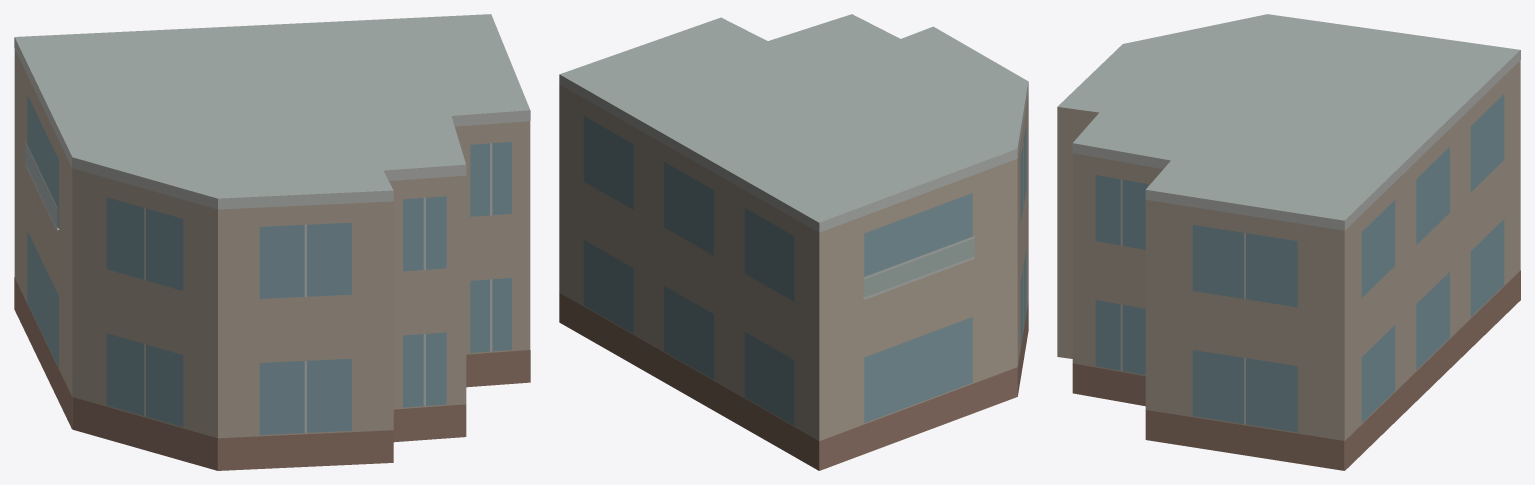
File: survey-upis-32928460.glb
3 renders of one model, left to right at view 1: azimuth 30°, elevation 25°; view 2: azimuth 150°, elevation 25°; view 3: azimuth 270°, elevation 25°, orthographic. The views are drawn at different scales.
Visible parts, largest first — view 1: survey-upis-32928460.tmp; view 2: survey-upis-32928460.tmp; view 3: survey-upis-32928460.tmp.
Part boxes in pixels (x1,y1,x2,y2): survey-upis-32928460.tmp: (14,14,530,470); survey-upis-32928460.tmp: (559,14,1028,470); survey-upis-32928460.tmp: (1057,14,1520,470).
Size of the model in its own units: 10.82 by 6.1 by 10.25.
